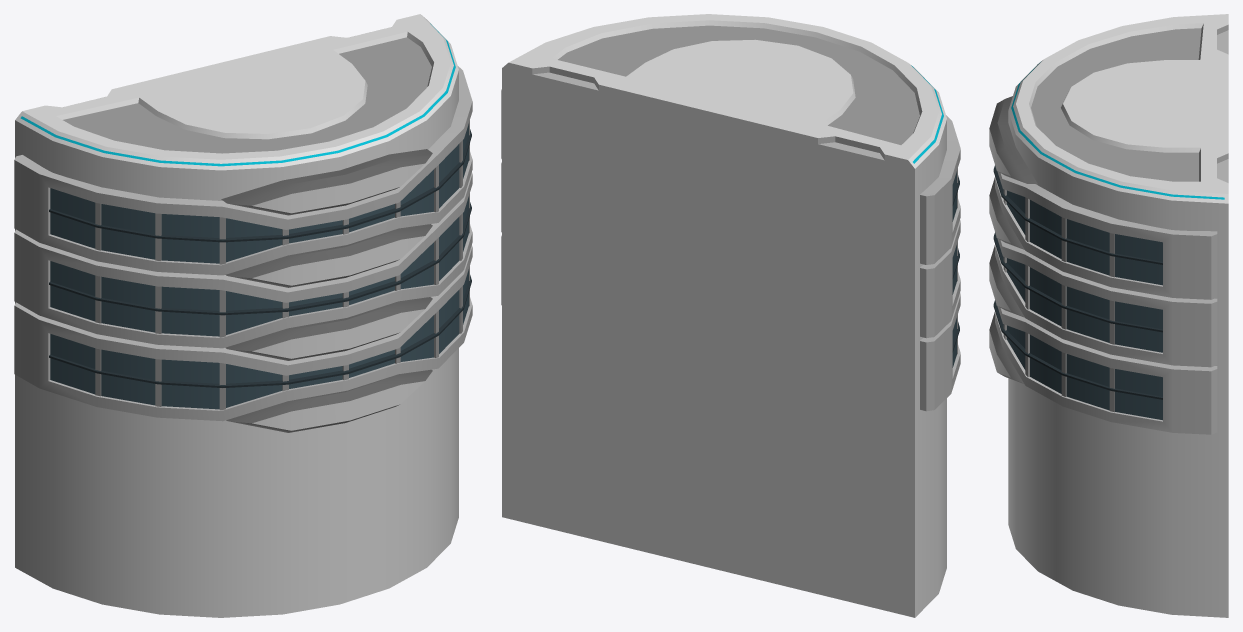
Rendered from space_station_004.fbx.
3 views of the same model, side by side, from view 1: azimuth 30°, elevation 25°; view 2: azimuth 150°, elevation 25°; view 3: azimuth 270°, elevation 25° (orthographic). The views are drawn at different scales.
Parts seen in each view (by area): view 1: space_station_004; view 2: space_station_004; view 3: space_station_004.
Boxes of the visible parts, x1,y1,x2,y2 form: space_station_004: (14,14,472,617); space_station_004: (501,14,960,617); space_station_004: (989,14,1228,617).
Size of the model in its own units: 3819 by 1978 by 3842.
